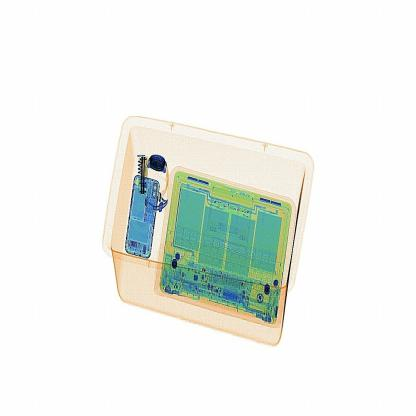scissors: (132, 153, 150, 201)
